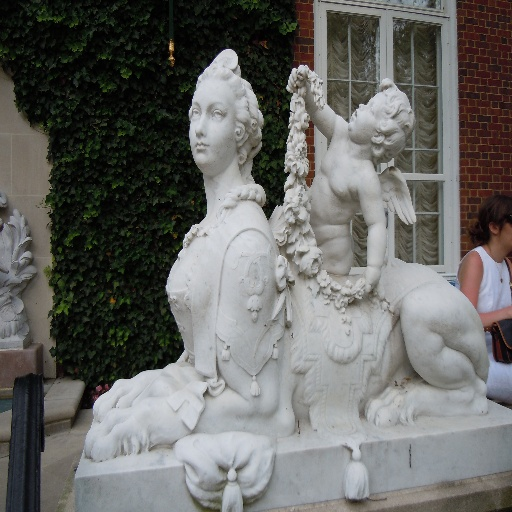hand: (285, 64, 309, 95), (360, 265, 380, 295), (507, 304, 511, 318)
